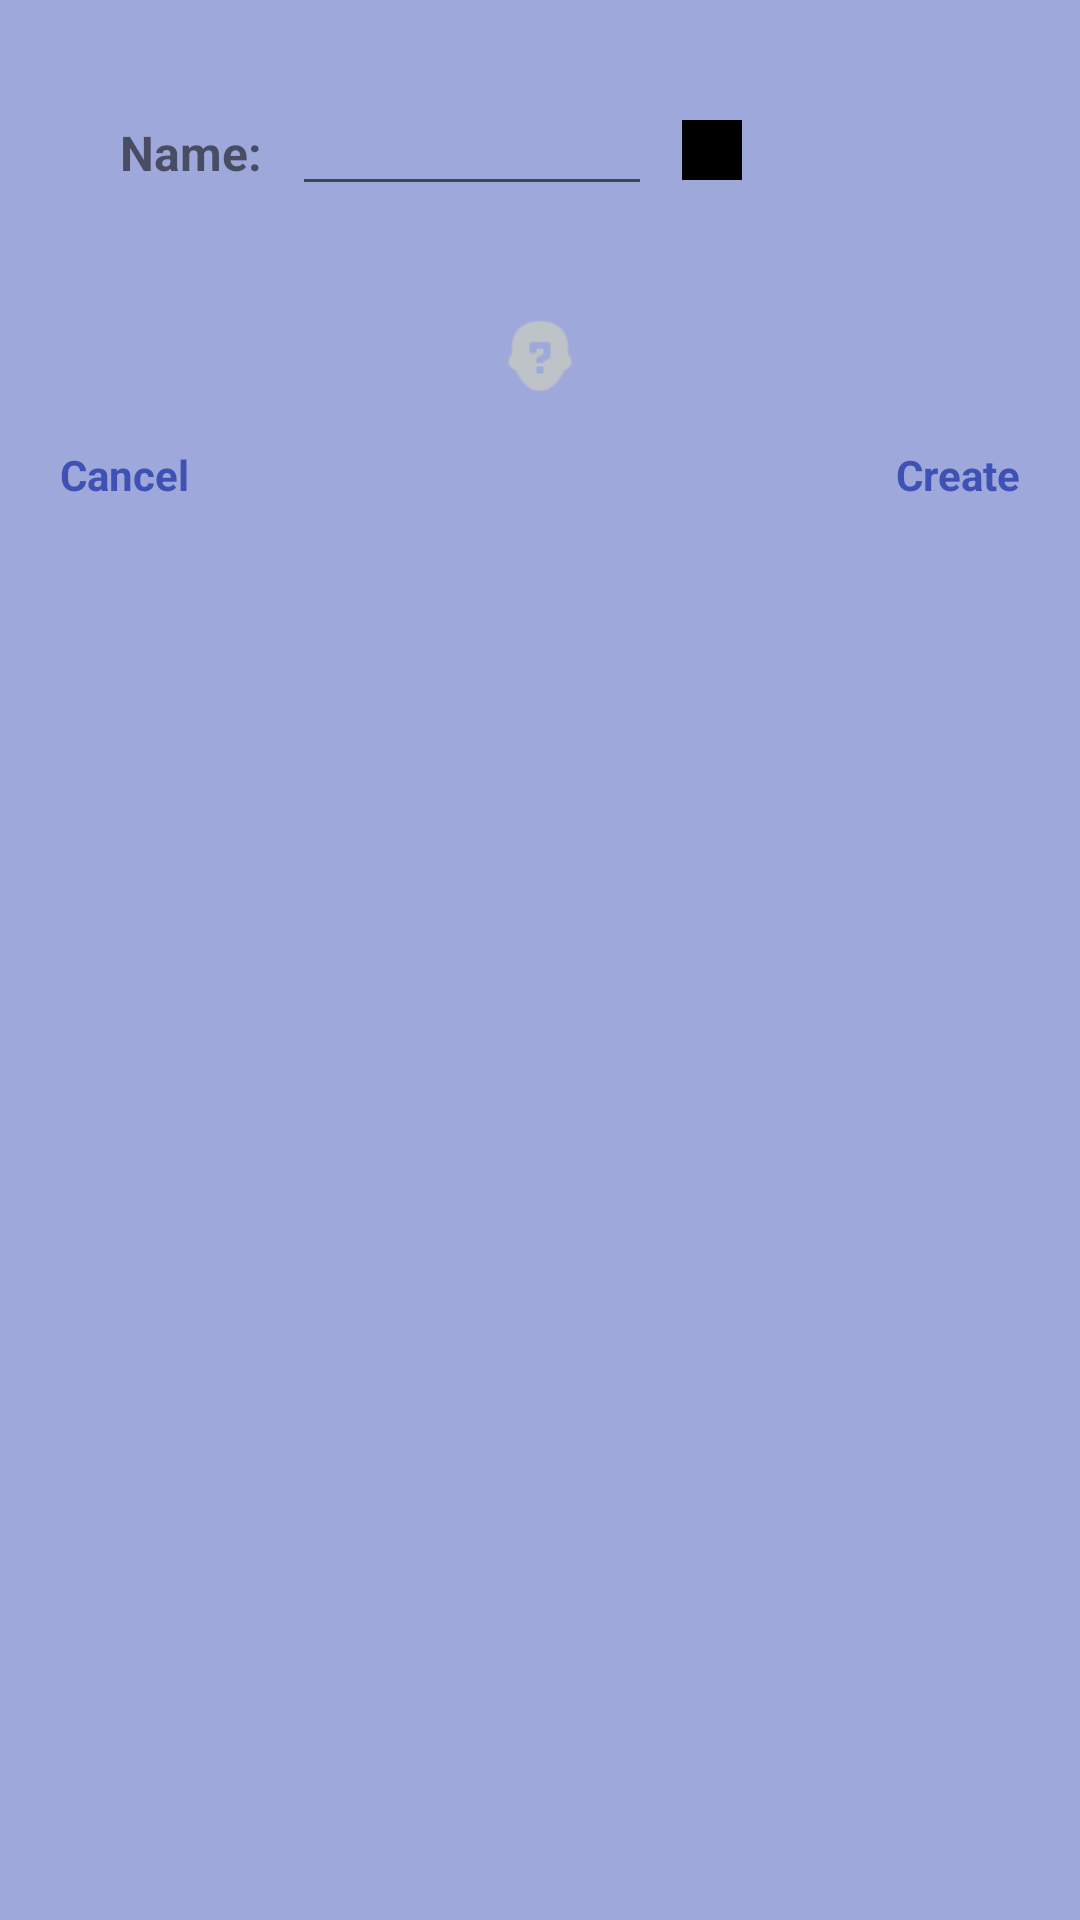

Screen size 1080 × 1920. Icon name, then its box in pixels as (x1, y1, x2, y2):
unknown contact: (509, 322, 571, 390)
